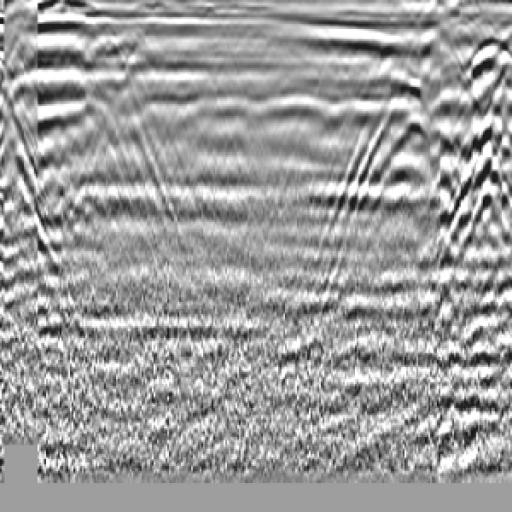metalic: (400, 27, 512, 324)
non-metallic: (330, 48, 484, 329), (1, 32, 64, 284)
